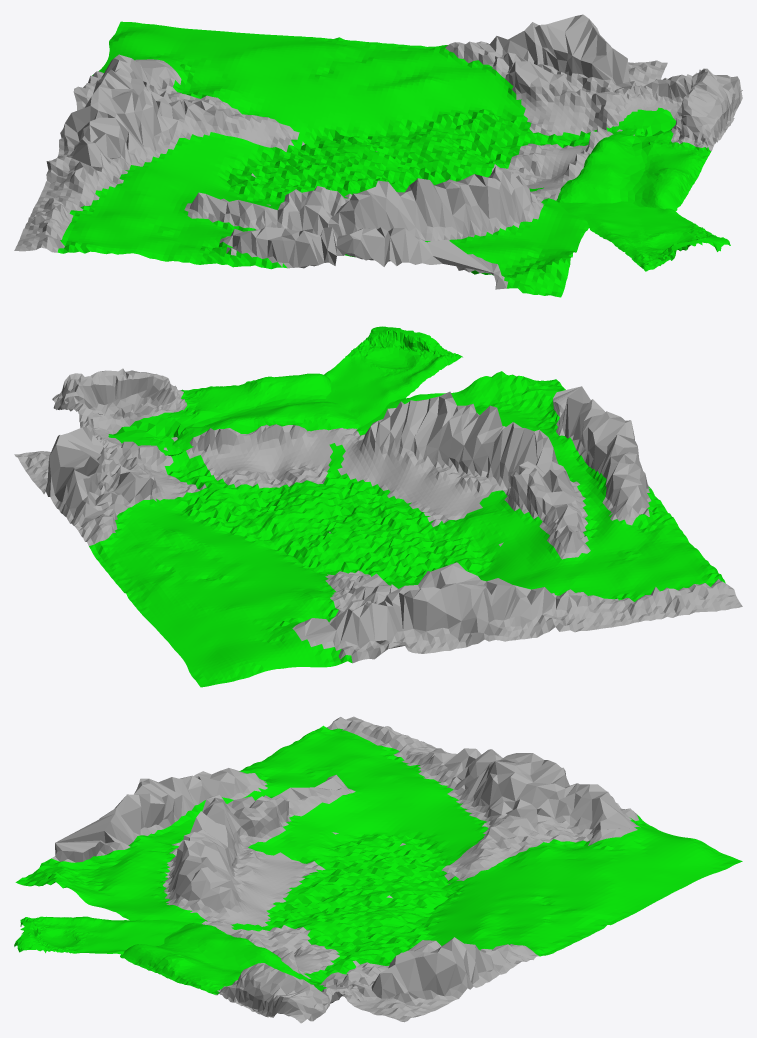
Rendered from ALL TERRAIN.fbx.
3 renders of one model, top to bottom at view 1: azimuth 30°, elevation 25°; view 2: azimuth 150°, elevation 25°; view 3: azimuth 270°, elevation 25°, orthographic. The views are drawn at different scales.
Parts seen in each view (by area): view 1: pPlane7, pPlane4, pPlane6; view 2: pPlane7, pPlane4, pPlane6; view 3: pPlane7, pPlane4, pPlane6.
Boxes of the visible parts, x1,y1,x2,y2 form: pPlane7: (14, 14, 667, 297); pPlane4: (556, 68, 742, 211); pPlane6: (556, 201, 730, 271); pPlane7: (14, 371, 742, 687); pPlane4: (52, 368, 361, 455); pPlane6: (324, 326, 462, 428); pPlane7: (15, 716, 742, 1022); pPlane4: (120, 922, 368, 1023); pPlane6: (14, 916, 192, 954).
Bounding box in the file's own units: 984 × 102 × 958.
